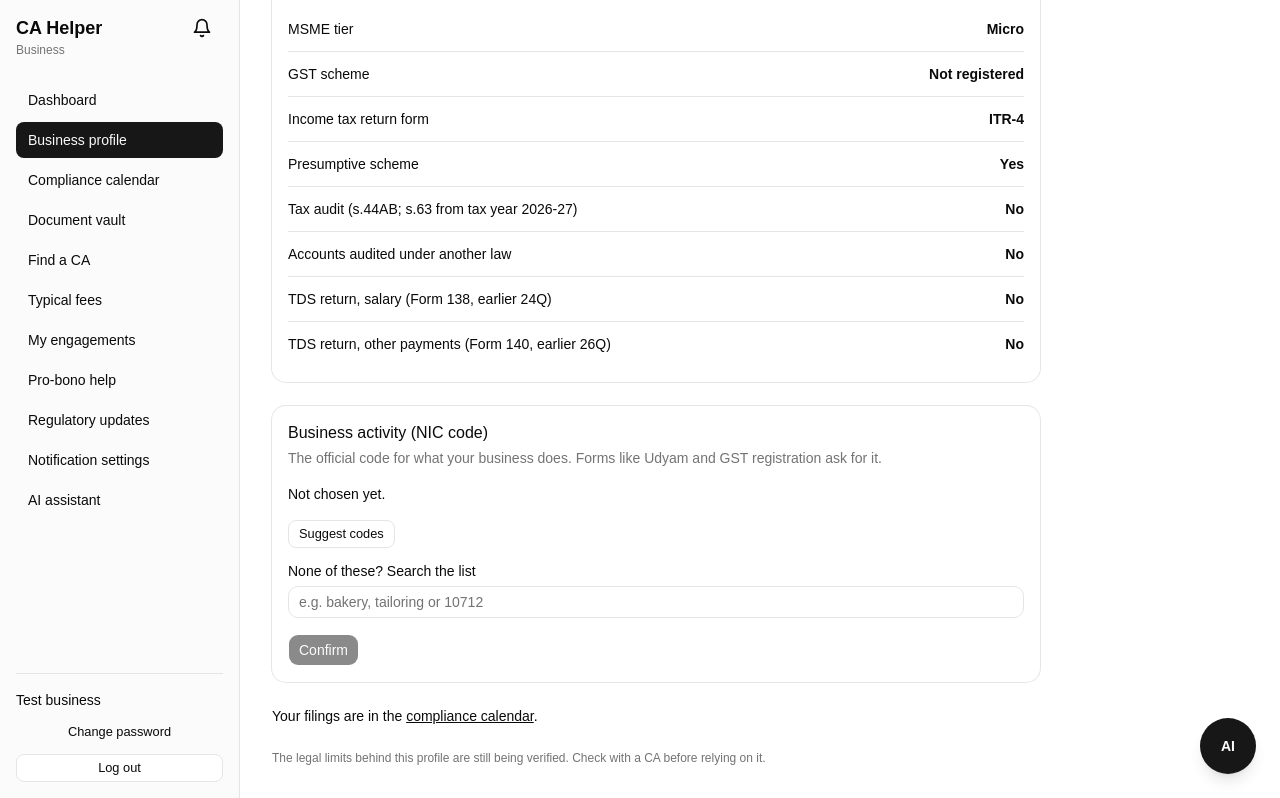
Test: NIC code card › shows the AI picks and saves the one the user confirms
(page scrolled)
Click the button "Suggest codes".
click(341, 534)  # box [288,520,395,548]
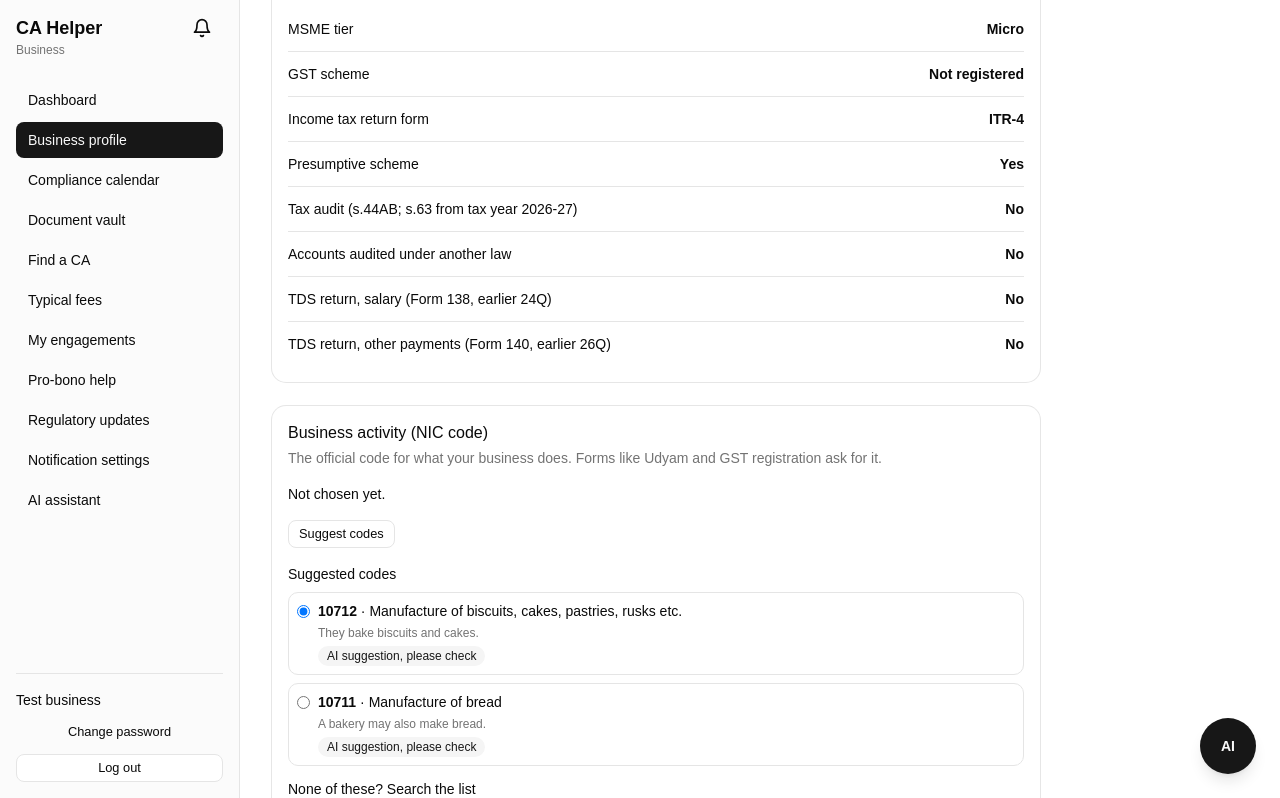
Now the text "They bake biscuits and cakes." is shown, box [318,626,479,640]
Now the text "AI suggestion, please check" is shown 2 times, box [318,646,485,666]; [318,737,485,757]
Now the radio button labelled "10712" is checked, box [297,605,310,618]
Click the radio button labelled "10711".
click(304, 702)  # box [297,696,310,709]
(page scrolled)
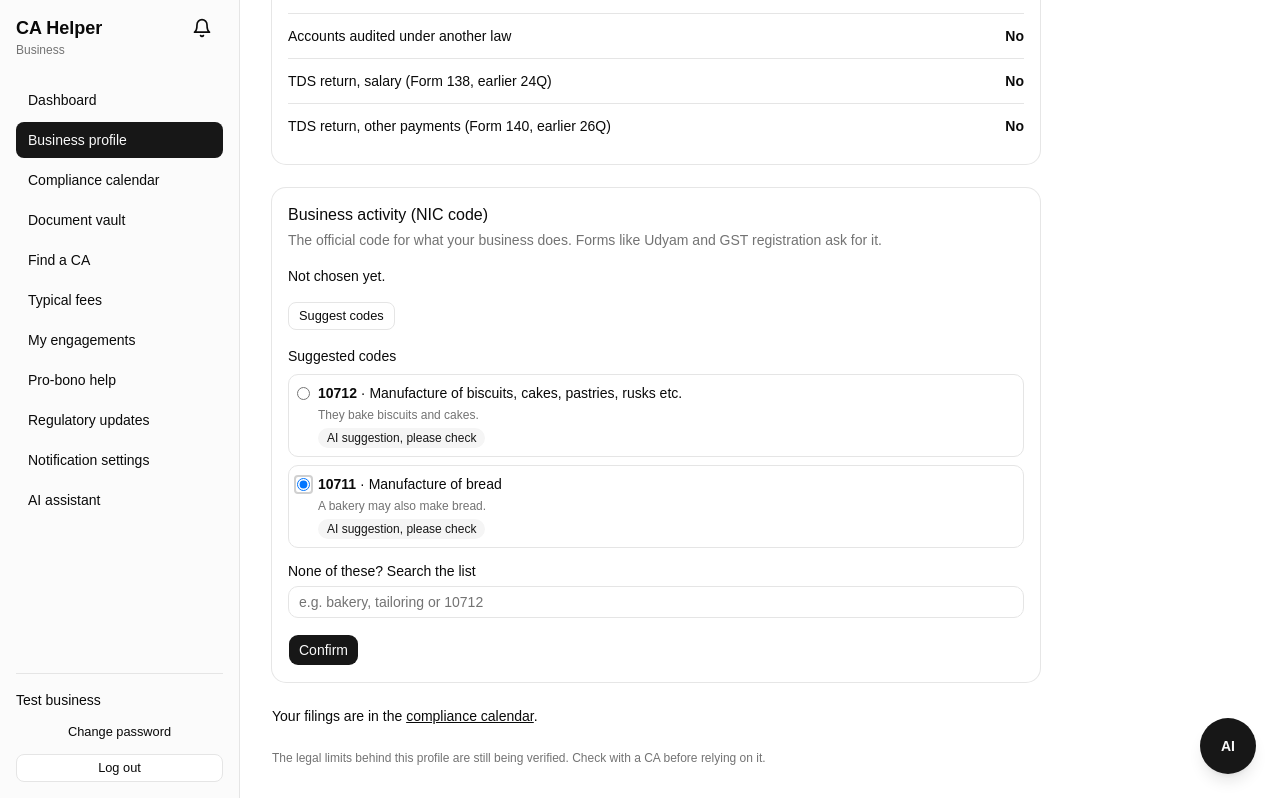
Click the button "Confirm".
click(324, 650)  # box [288,634,359,666]
(page scrolled)
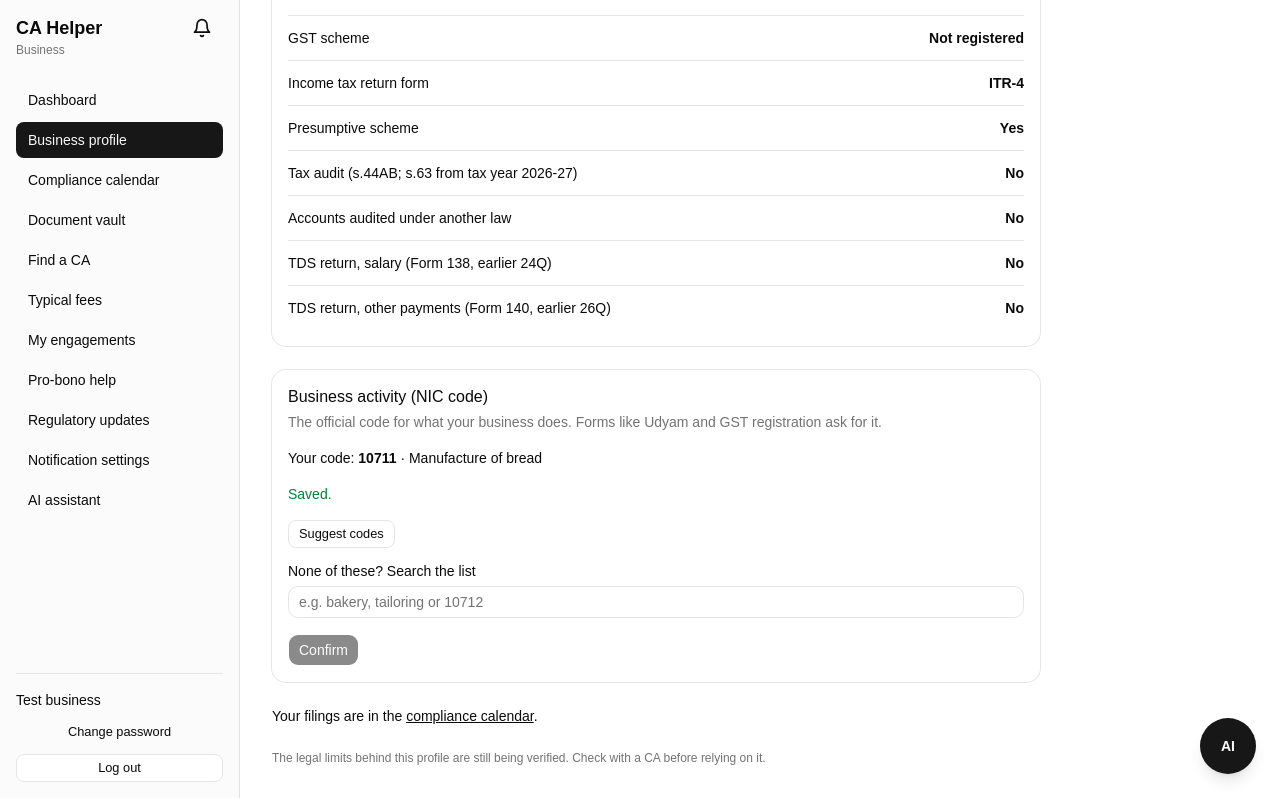
Now the text "Saved." is shown, box [288,486,332,502]
Now the text "Your code: 10711 · Manufacture of bread" is shown, box [288,450,542,466]
